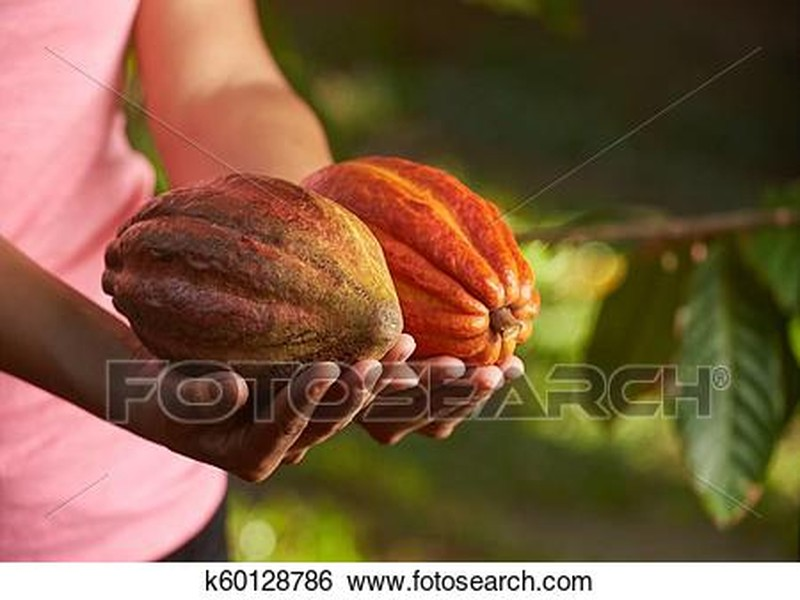Cacaopod: (100, 169, 407, 377)
